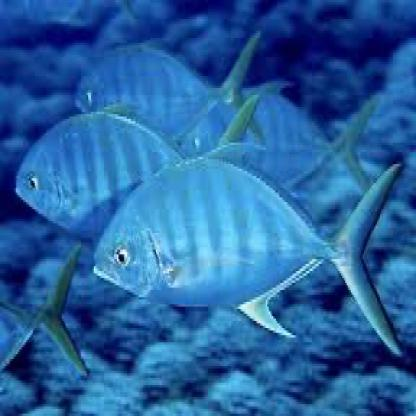Bio: (89, 126, 404, 362)
